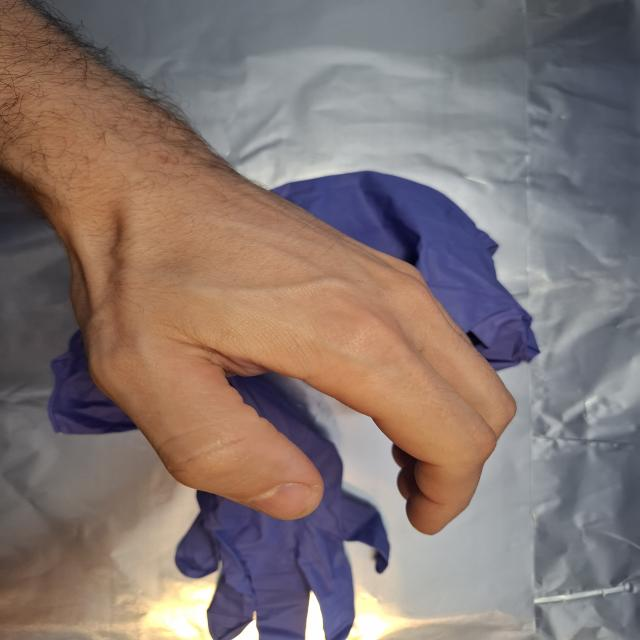glove_off: (57, 158, 519, 538)
